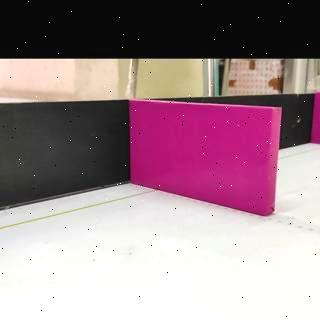xparking: (132, 106, 272, 206)
